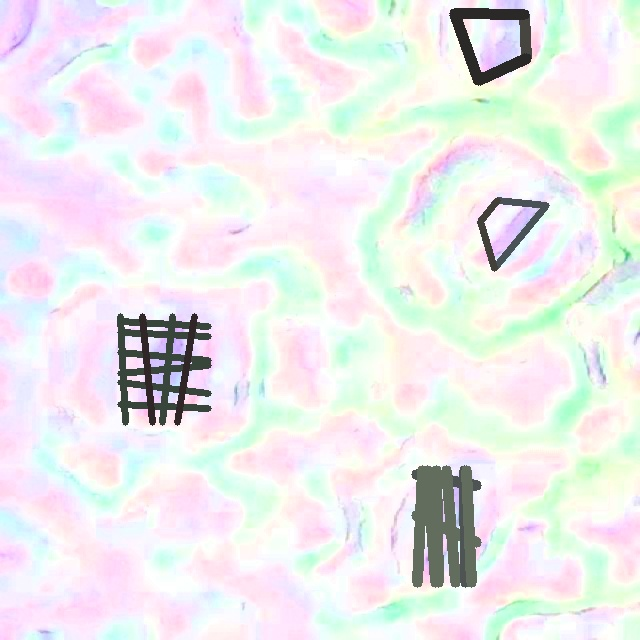open: (117, 313, 211, 424), (411, 466, 480, 586), (450, 9, 530, 84), (477, 197, 548, 270)
